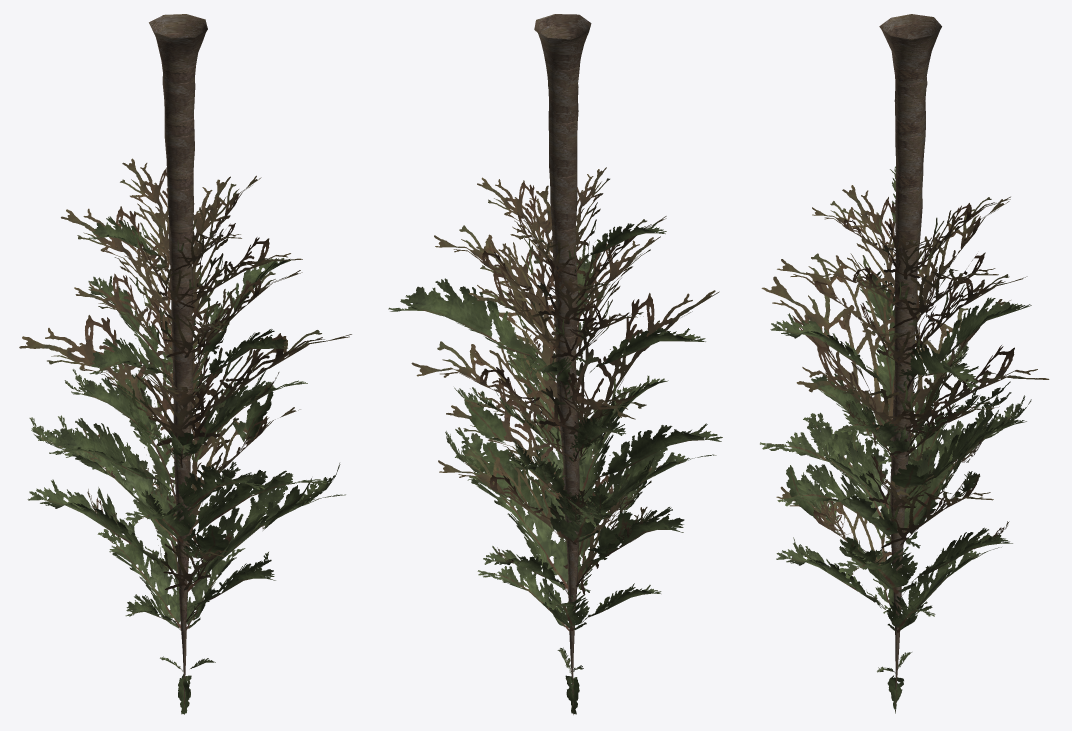
Rendered from BIO_VEG_SpruceTree_01D.fbx.
3 renders of one model, left to right at view 1: azimuth 30°, elevation 25°; view 2: azimuth 150°, elevation 25°; view 3: azimuth 270°, elevation 25°, orthographic.
Parts seen in each view (by area): view 1: BIO_VEG_SpruceTree_01D; view 2: BIO_VEG_SpruceTree_01D; view 3: BIO_VEG_SpruceTree_01D.
Boxes of the visible parts, bbox=[...] form: BIO_VEG_SpruceTree_01D: bbox=[19, 14, 351, 714]; BIO_VEG_SpruceTree_01D: bbox=[388, 14, 722, 714]; BIO_VEG_SpruceTree_01D: bbox=[760, 14, 1049, 713].
Bounding box in the file's own units: 497 × 1133 × 452.
